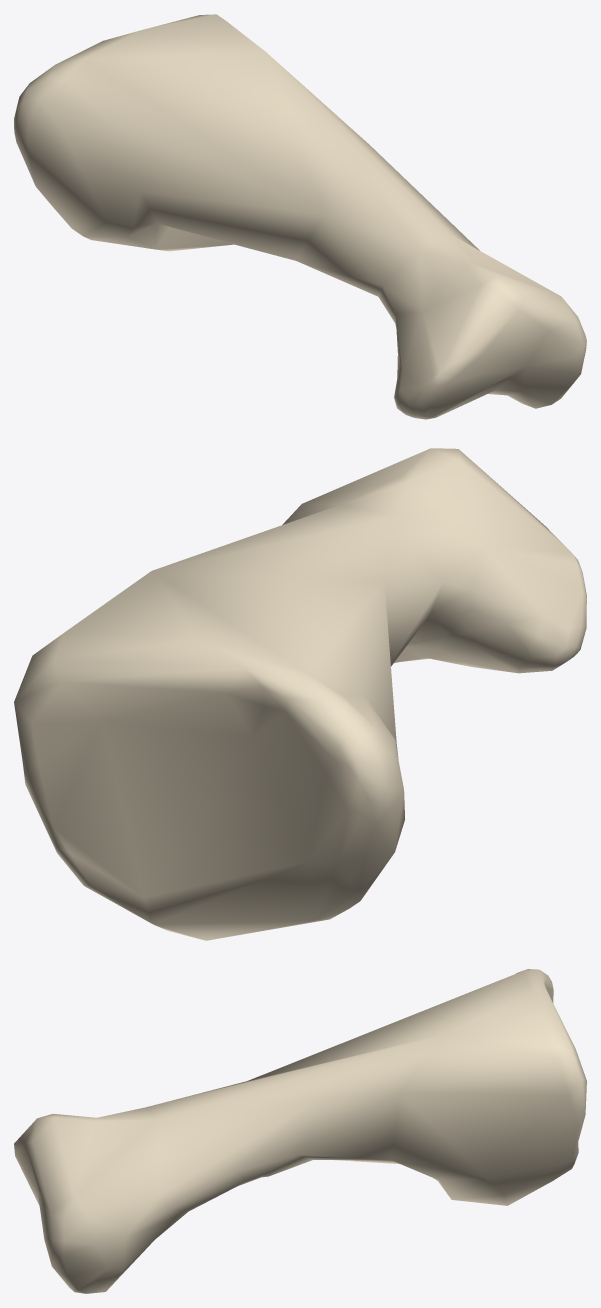
File: proximal-phalanx-of-second-finger-of-foot-l.glb
The picture shows the model from 3 angles, top to bottom: view 1: azimuth 30°, elevation 25°; view 2: azimuth 150°, elevation 25°; view 3: azimuth 270°, elevation 25°; orthographic projection. The views are drawn at different scales.
Visible parts, largest first — view 1: Proximal phalanx of second finger of foot.l; view 2: Proximal phalanx of second finger of foot.l; view 3: Proximal phalanx of second finger of foot.l.
Part boxes in pixels (x1,y1,x2,y2): Proximal phalanx of second finger of foot.l: (14,14,586,419); Proximal phalanx of second finger of foot.l: (14,448,586,940); Proximal phalanx of second finger of foot.l: (14,969,586,1293).
Bounding box in the file's own units: 0.0179 × 0.013 × 0.0294.
